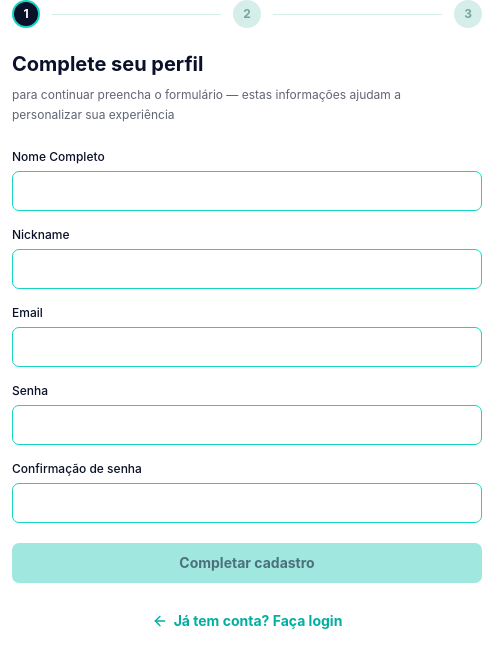
Scenario: RegisterStudentForm › rejeita caracteres especiais e numeros no nome completo
Type "Jose@ Silva123" into the field labelled "Nome Completo" at (247, 191), box [12, 171, 482, 211]
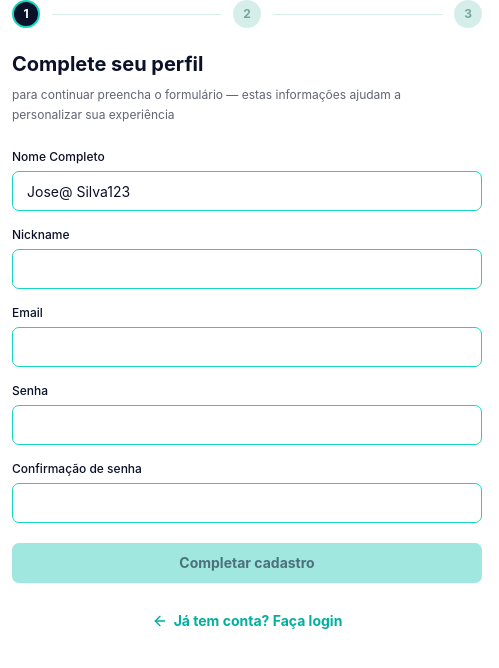
Press Tab
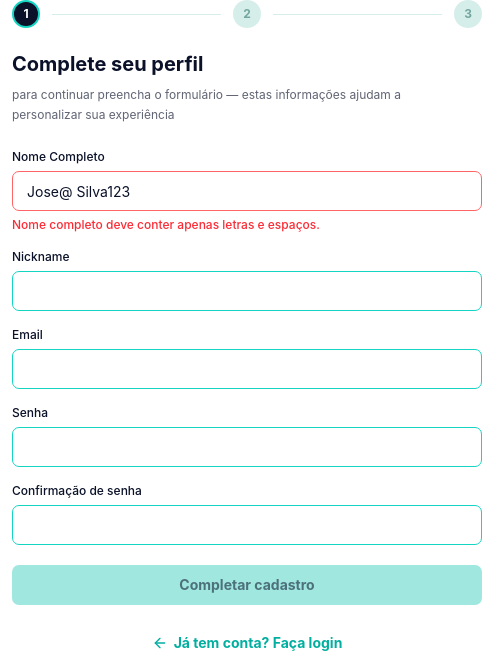
Expected: the button "Completar cadastro" is disabled, [12, 565, 482, 605]
Result: the text "Nome completo deve conter apenas letras e espaços." is shown at [12, 217, 320, 232]
